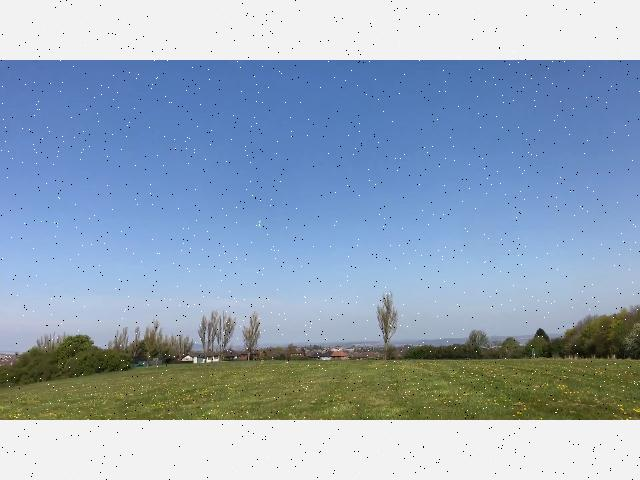Anti-Drone: (248, 218, 276, 236)
